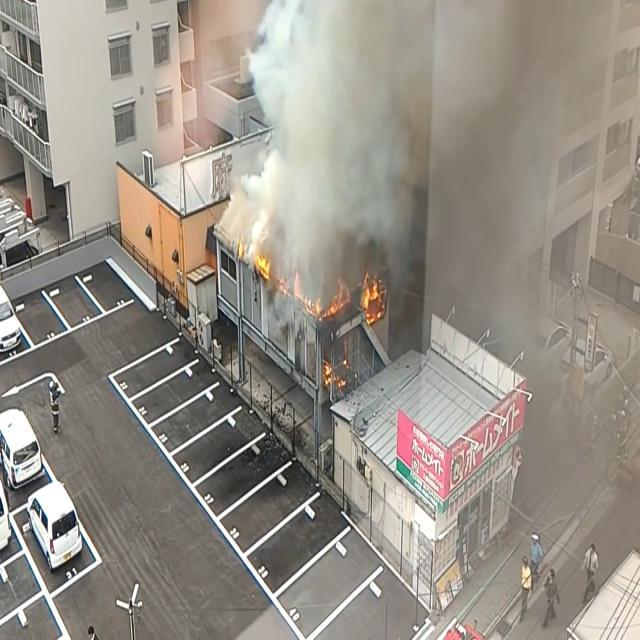Fire: (359, 267, 387, 329), (298, 287, 344, 324), (250, 247, 272, 284)
Smoke: (242, 0, 604, 335)
